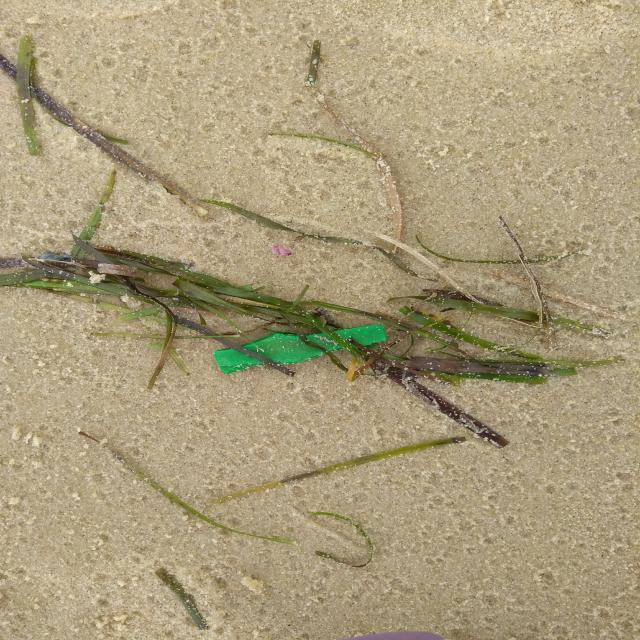Other plastic: (212, 324, 387, 374)
